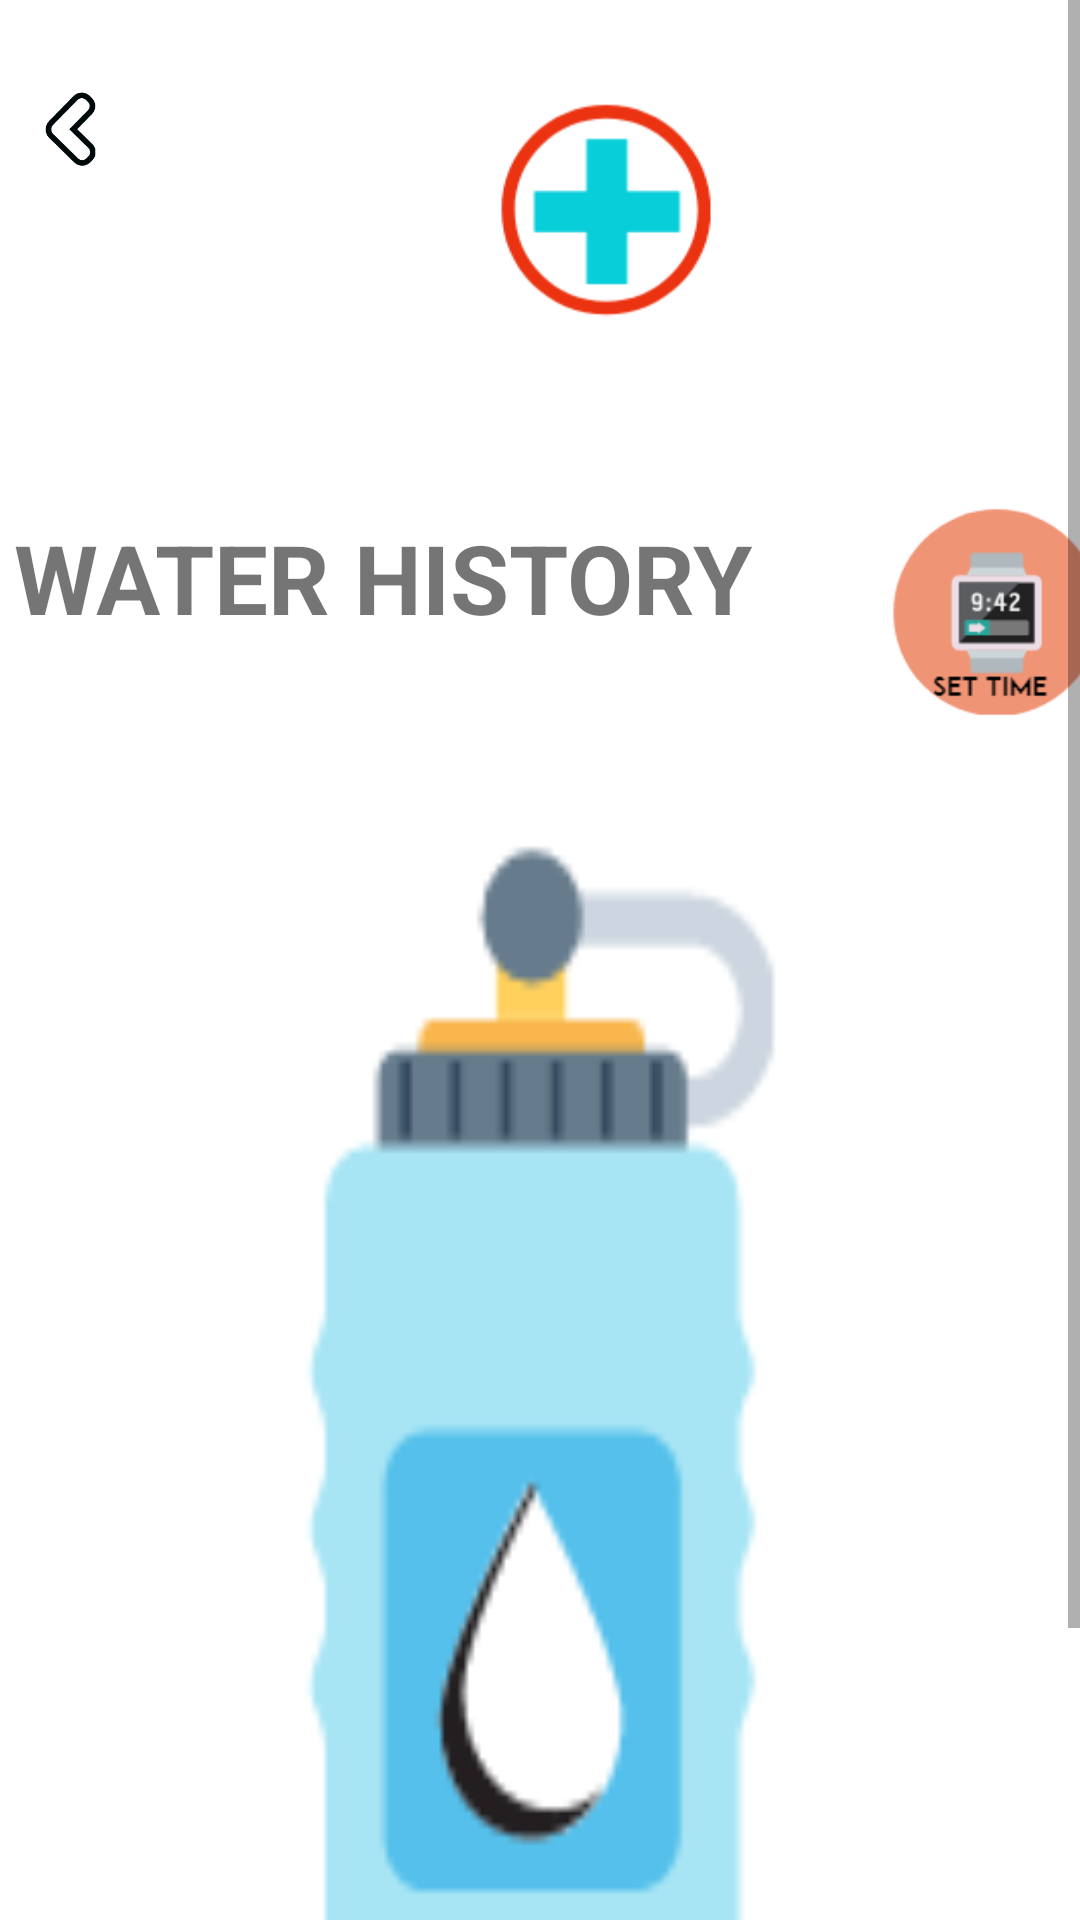

Icon click points for this 1080px×1920px phone screenshot, format [x,y]:
back: [70,129]
